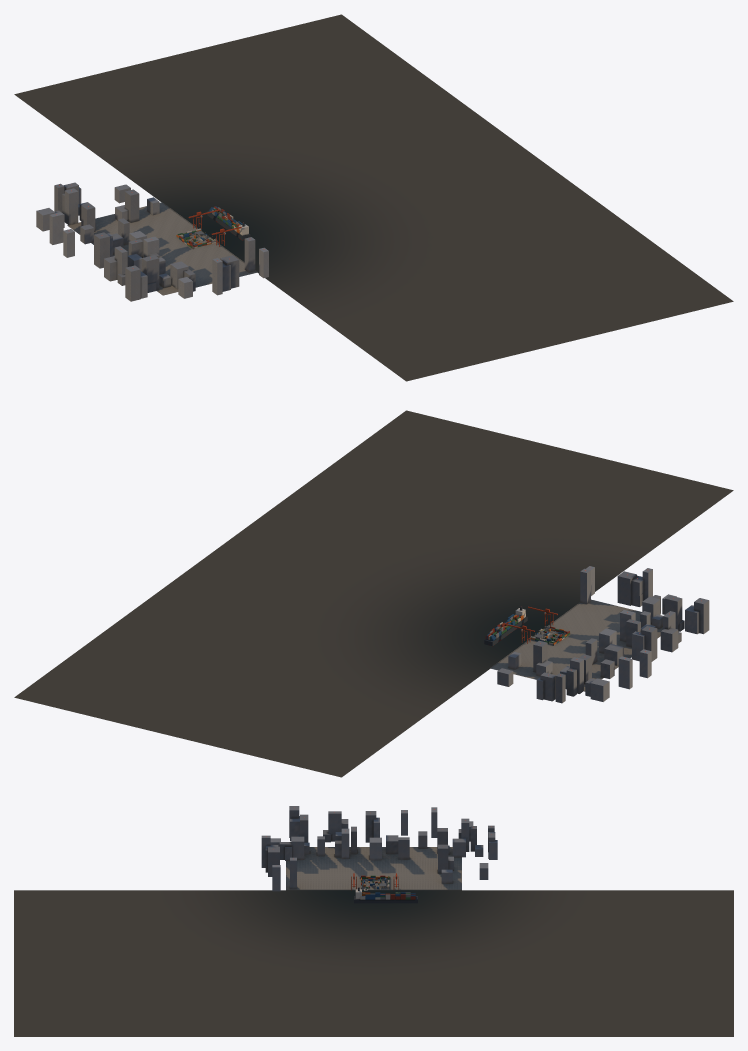
File: level.04ddf572.glb
The picture shows the model from 3 angles, top to bottom: view 1: azimuth 30°, elevation 25°; view 2: azimuth 150°, elevation 25°; view 3: azimuth 270°, elevation 25°; orthographic projection. The views are drawn at different scales.
Visible parts, largest first — view 1: lv_water, lv_concrete, lv_ground, lv_container, lv_metal; view 2: lv_water, lv_concrete, lv_ground, lv_container, lv_metal; view 3: lv_water, lv_concrete, lv_ground, lv_container, lv_metal.
Boxes of the visible parts, <box> form: lv_water: <box>14,14,733,381</box>; lv_concrete: <box>36,182,268,301</box>; lv_ground: <box>67,202,257,295</box>; lv_container: <box>176,206,242,248</box>; lv_metal: <box>178,210,250,248</box>; lv_water: <box>14,410,733,777</box>; lv_concrete: <box>490,566,709,703</box>; lv_ground: <box>490,599,662,691</box>; lv_container: <box>485,614,569,645</box>; lv_metal: <box>484,606,566,646</box>; lv_water: <box>14,890,733,1036</box>; lv_concrete: <box>261,806,497,891</box>; lv_ground: <box>286,847,461,889</box>; lv_container: <box>360,875,415,899</box>; lv_metal: <box>351,873,417,903</box>.
Bounding box in the file's own units: 1208 × 86.47 × 1800.
Materials: 7 (5 with a texture image).
